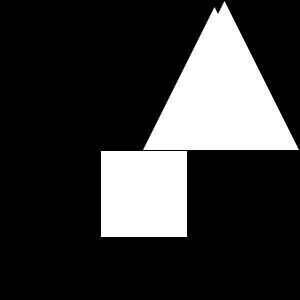circle: (101, 151, 187, 237)
triangle: (150, 1, 299, 150), (143, 7, 286, 150)
